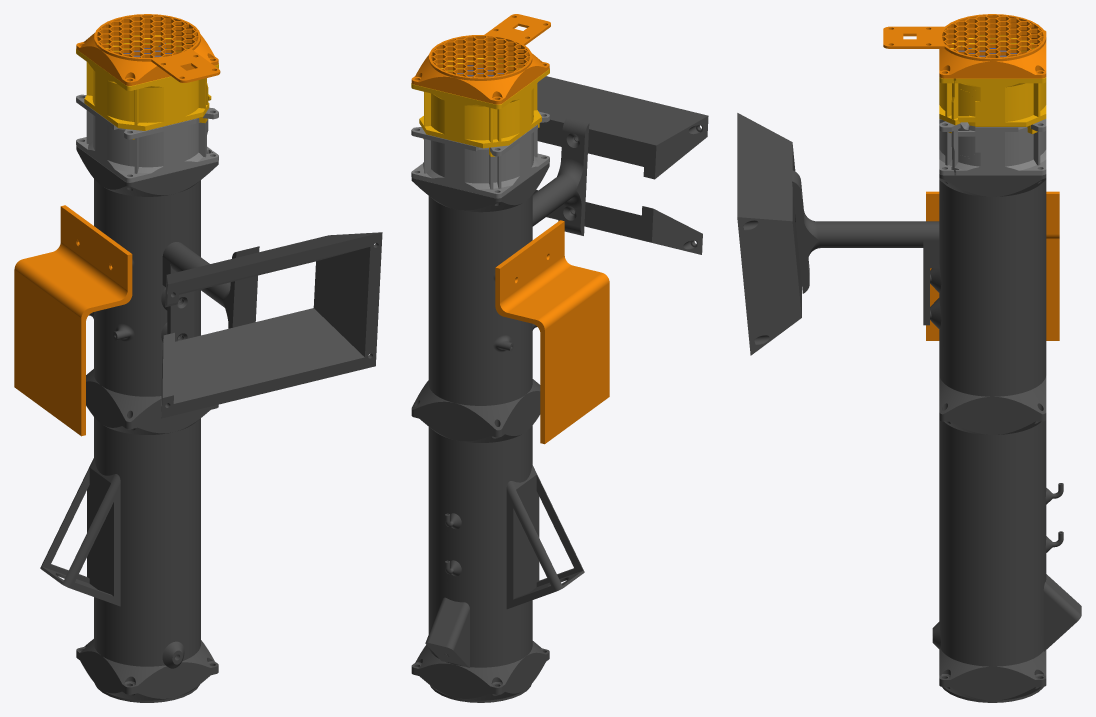
Rendered from ali-flow.obj.
3 renders of one model, left to right at view 1: azimuth 30°, elevation 25°; view 2: azimuth 150°, elevation 25°; view 3: azimuth 270°, elevation 25°, orthographic. The views are drawn at different scales.
Parts seen in each view (by area): view 1: mesh1429, mesh11, mesh137, mesh1061, mesh147, mesh138, mesh1736, mesh1441, mesh1056, mesh143, mesh1059, mesh1228 (+29 smaller); view 2: mesh1429, mesh11, mesh1061, mesh143, mesh155, mesh1736, mesh1441, mesh1056, mesh1059, mesh1288, mesh2622, mesh1437 (+34 smaller); view 3: mesh1429, mesh11, mesh152, mesh143, mesh1040, mesh1736, mesh1315, mesh2648, mesh1063, mesh91, mesh121, mesh177 (+17 smaller).
Boxes of the visible parts, box(x1,y1,x2,y2) form: mesh1429: box(94, 417, 200, 666); mesh11: box(94, 179, 200, 396); mesh137: box(173, 308, 364, 403); mesh1061: box(14, 270, 81, 435); mesh147: box(161, 232, 382, 418); mesh138: box(313, 247, 370, 356); mesh1736: box(94, 14, 219, 80); mesh1441: box(87, 468, 113, 596); mesh1056: box(60, 206, 127, 289); mesh143: box(166, 232, 381, 284); mesh1059: box(23, 252, 119, 307); mesh1228: box(132, 119, 216, 182); mesh1429: box(428, 425, 532, 667); mesh11: box(428, 195, 532, 405); mesh1061: box(545, 283, 609, 443); mesh143: box(537, 76, 707, 145); mesh155: box(533, 119, 656, 242); mesh1736: box(429, 14, 550, 78); mesh1441: box(513, 475, 539, 599); mesh1056: box(500, 221, 564, 302); mesh1059: box(508, 265, 601, 319); mesh1288: box(413, 132, 495, 197); mesh2622: box(413, 85, 495, 147); mesh1437: box(506, 490, 555, 609); mesh1429: box(939, 420, 1046, 666); mesh11: box(939, 180, 1046, 396); mesh152: box(737, 217, 801, 355); mesh143: box(737, 113, 792, 221); mesh1040: box(817, 221, 939, 247); mesh1736: box(883, 14, 1045, 59); mesh1315: box(956, 127, 1041, 175); mesh2648: box(956, 79, 1041, 126); mesh1063: box(926, 239, 1059, 340); mesh91: box(944, 175, 1040, 196); mesh121: box(944, 396, 1040, 417); mesh177: box(944, 683, 1040, 700).
Size of the model in its own units: 0.185 by 0.531 by 0.2575.
